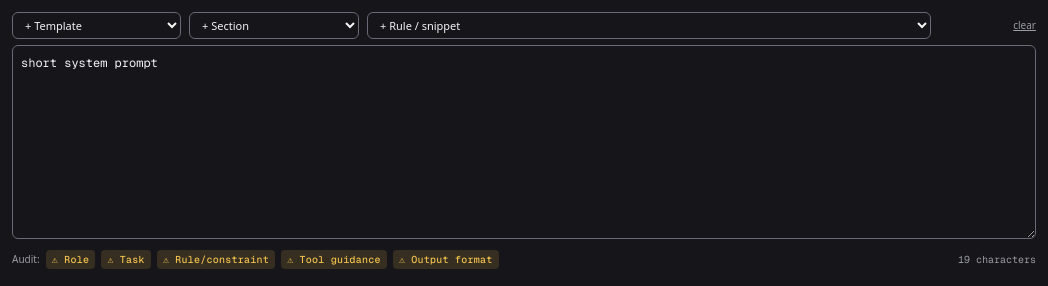
Test: PromptEditor clear (short text) › text at/under 200 chars clears immediately (no confirm dialog) but still offers undo
This screenshot has width=1048, height=286.
Click the button "clear".
click(1025, 26)  # box [1013,18,1036,33]
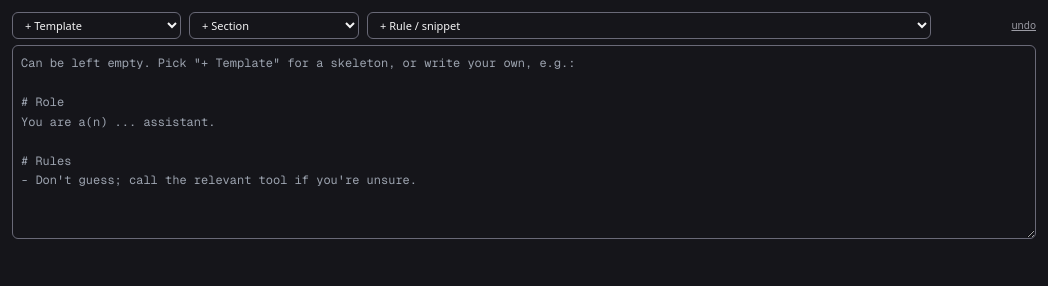
Expected: the text box with placeholder "Can be left empty" is empty
Click the button "undo".
click(1024, 26)  # box [1011,18,1036,33]
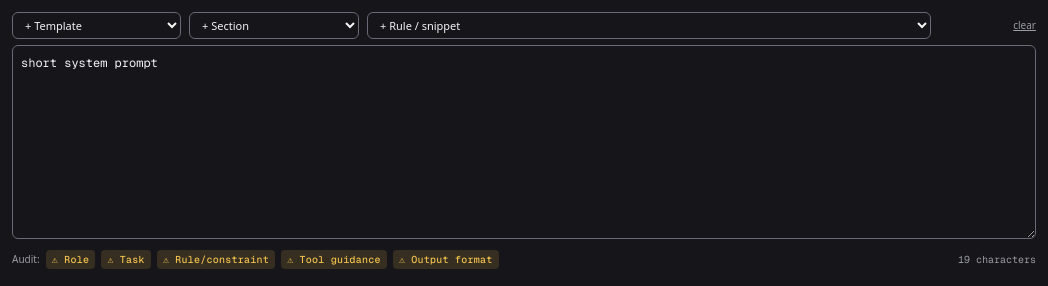
Expected: the text box with placeholder "Can be left empty" holds "short system prompt"
